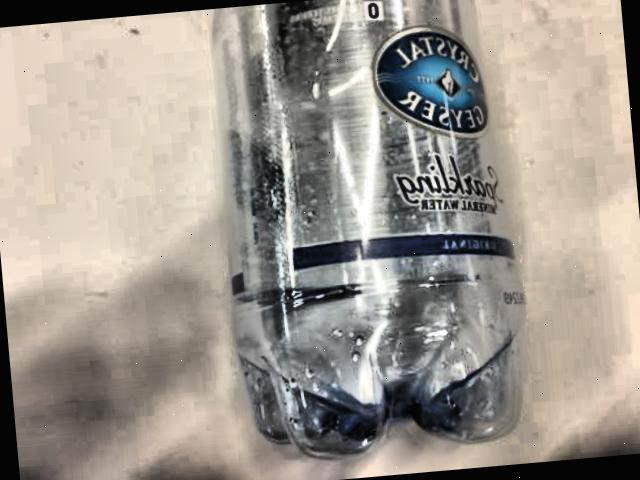Bottles: (162, 0, 545, 480)
